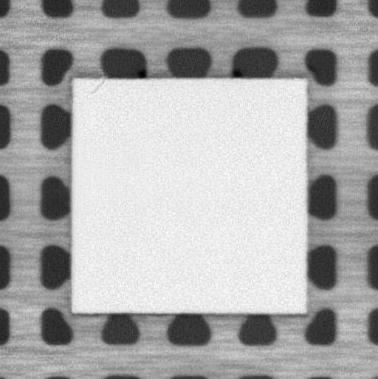DIE_CRACK: (89, 78, 107, 97)
